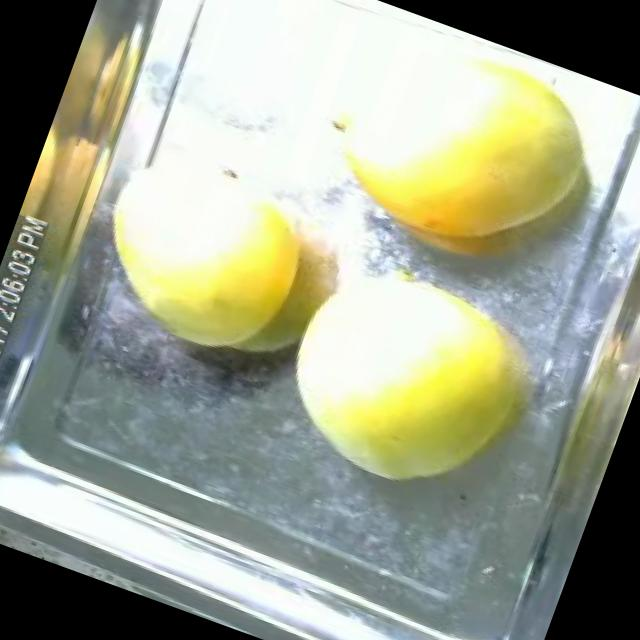fruit: (241, 216, 599, 550), (294, 1, 638, 316), (68, 155, 329, 384)
